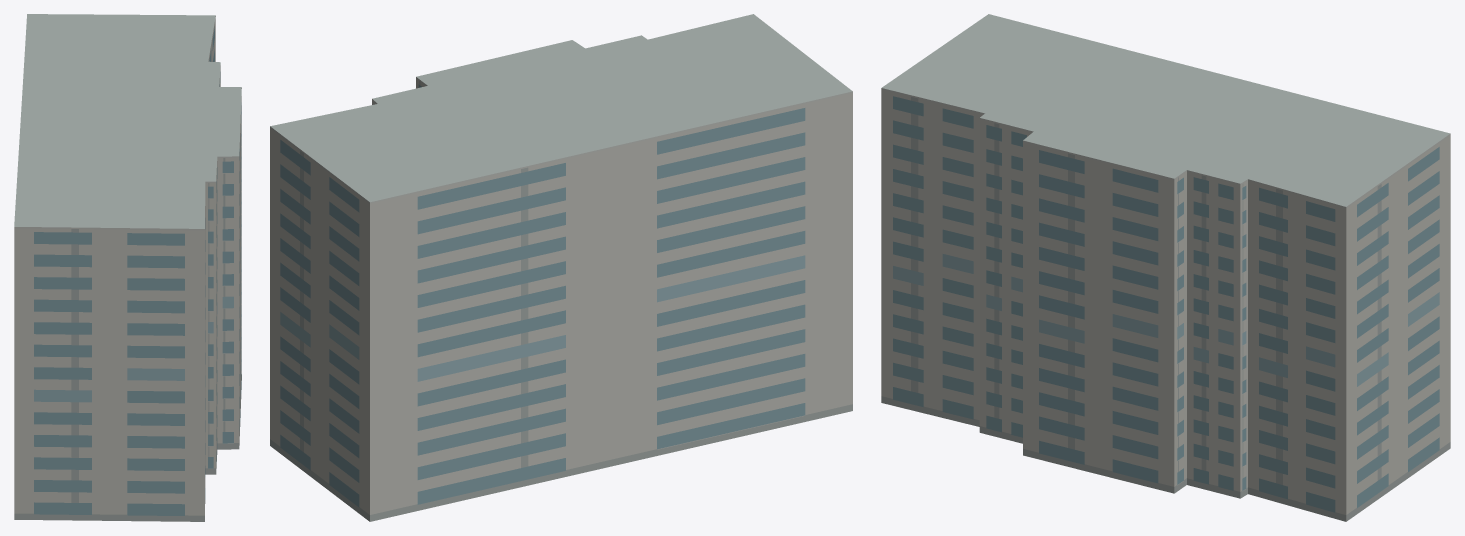
The model's file is survey-upis-32734632.glb.
The picture shows the model from 3 angles, left to right: view 1: azimuth 30°, elevation 25°; view 2: azimuth 150°, elevation 25°; view 3: azimuth 270°, elevation 25°; orthographic projection. The views are drawn at different scales.
Parts seen in each view (by area): view 1: survey-upis-32734632.tmp; view 2: survey-upis-32734632.tmp; view 3: survey-upis-32734632.tmp.
Boxes of the visible parts, x1,y1,x2,y2 form: survey-upis-32734632.tmp: (14, 14, 241, 521); survey-upis-32734632.tmp: (270, 14, 852, 521); survey-upis-32734632.tmp: (881, 14, 1450, 521).
Size of the model in its own units: 66.38 by 50.5 by 82.73.
